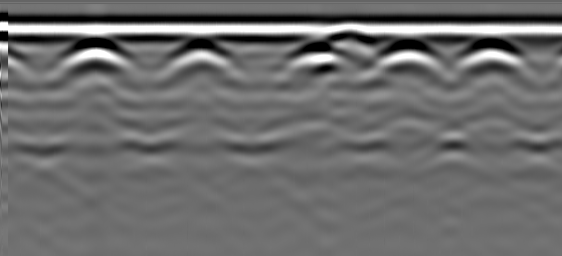pipe: (325, 21, 373, 45)
steel: (167, 40, 237, 77), (63, 39, 127, 71), (457, 39, 521, 71), (285, 42, 345, 76), (377, 41, 438, 71)
